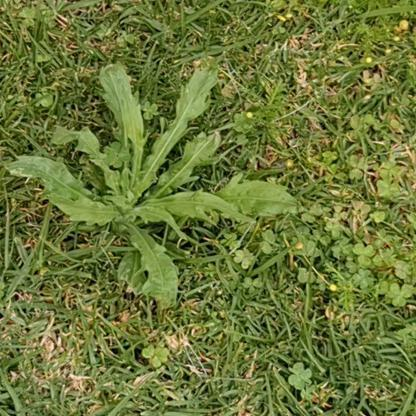Weeds: (5, 62, 301, 310)
